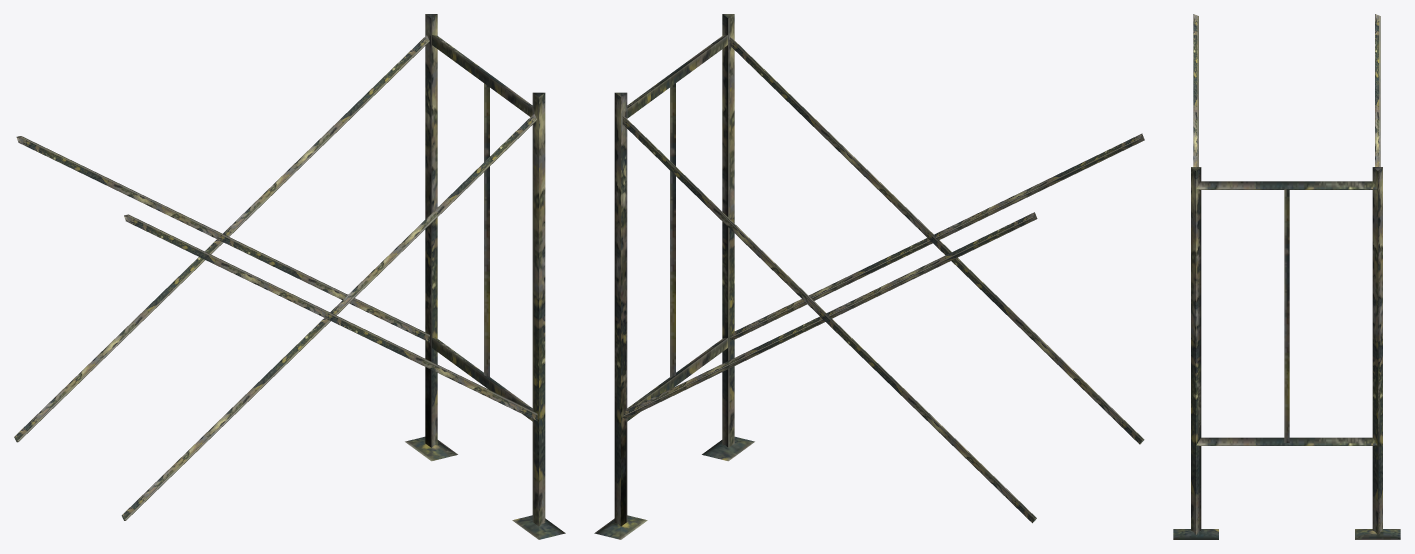
File: sidescaff_bottom.fbx
3 renders of one model, left to right at view 1: azimuth 30°, elevation 25°; view 2: azimuth 150°, elevation 25°; view 3: azimuth 270°, elevation 25°, orthographic. The views are drawn at different scales.
Parts seen in each view (by area): view 1: mesh_0; view 2: mesh_0; view 3: mesh_0.
Part boxes in pixels (x1,y1,x2,y2): mesh_0: (14,14,565,539); mesh_0: (594,14,1144,539); mesh_0: (1173,14,1400,539).
Bounding box in the file's own units: 415 × 400 × 225.
Materials: 1 (1 with a texture image).
